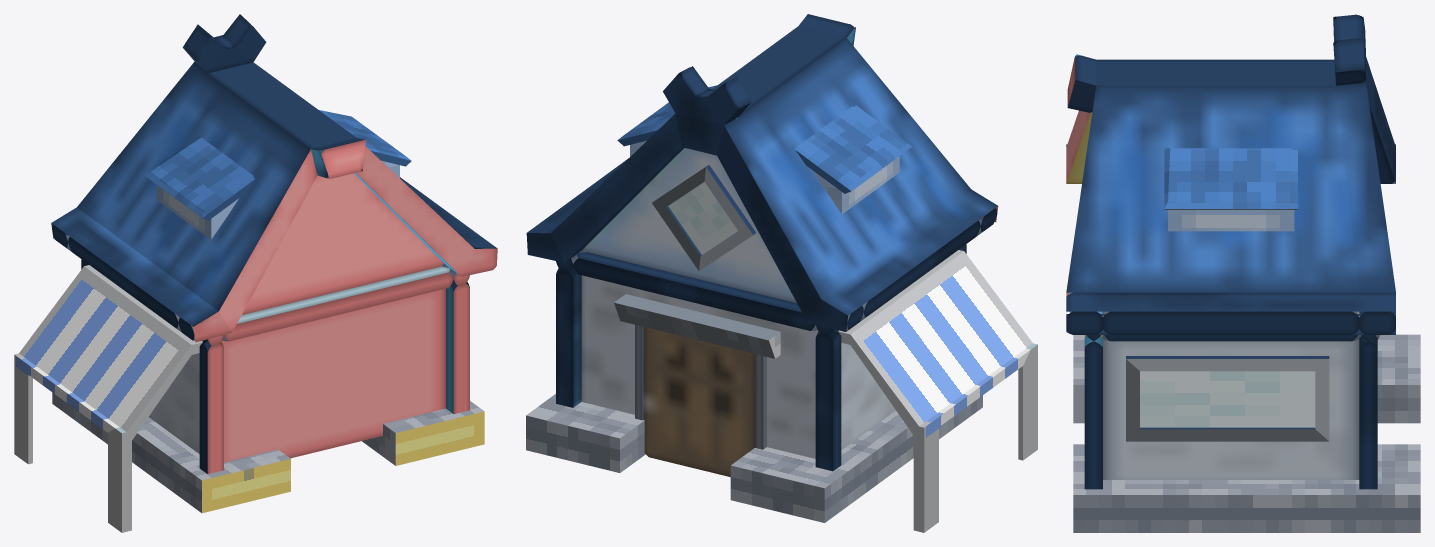
File: house5.fbx
3 renders of one model, left to right at view 1: azimuth 30°, elevation 25°; view 2: azimuth 150°, elevation 25°; view 3: azimuth 270°, elevation 25°, orthographic. The views are drawn at different scales.
Parts seen in each view (by area): view 1: main house, side tarp, BASE, upstairs, upstairs_1; view 2: main house, side tarp, BASE, upstairs, window, door hat, upstairs_1; view 3: main house, BASE, window_1, upstairs_1.
Part boxes in pixels (x1,y1,x2,y2): main house: [51, 14, 497, 473]; side tarp: [14, 265, 202, 532]; BASE: [52, 392, 484, 513]; upstairs: [145, 136, 254, 239]; upstairs_1: [310, 110, 411, 177]; main house: [526, 14, 998, 476]; side tarp: [838, 250, 1037, 532]; BASE: [526, 394, 982, 522]; upstairs: [795, 105, 911, 214]; window: [652, 165, 755, 270]; door hat: [614, 294, 780, 358]; upstairs_1: [617, 85, 736, 156]; main house: [1066, 14, 1395, 489]; BASE: [1073, 334, 1420, 532]; window_1: [1126, 356, 1329, 441]; upstairs_1: [1164, 148, 1298, 231].
Size of the model in its own units: 214 by 218 by 158.
Materials: 6 (6 with a texture image).
